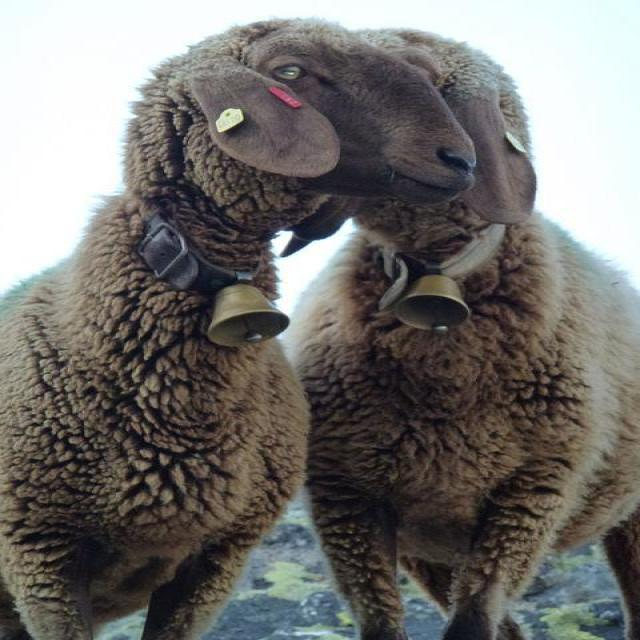Sheep: (0, 17, 480, 535), (293, 31, 639, 630)
